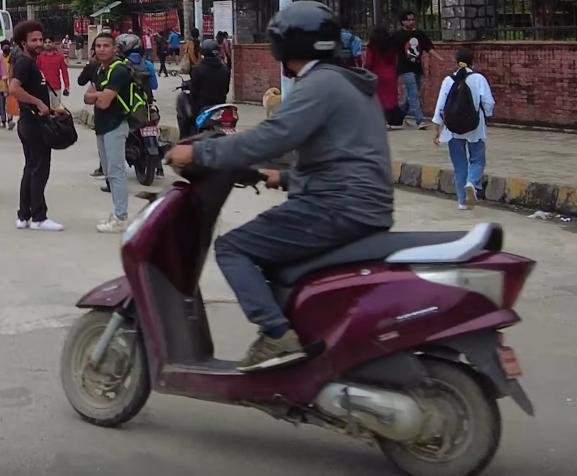scooter: (54, 120, 535, 476)
